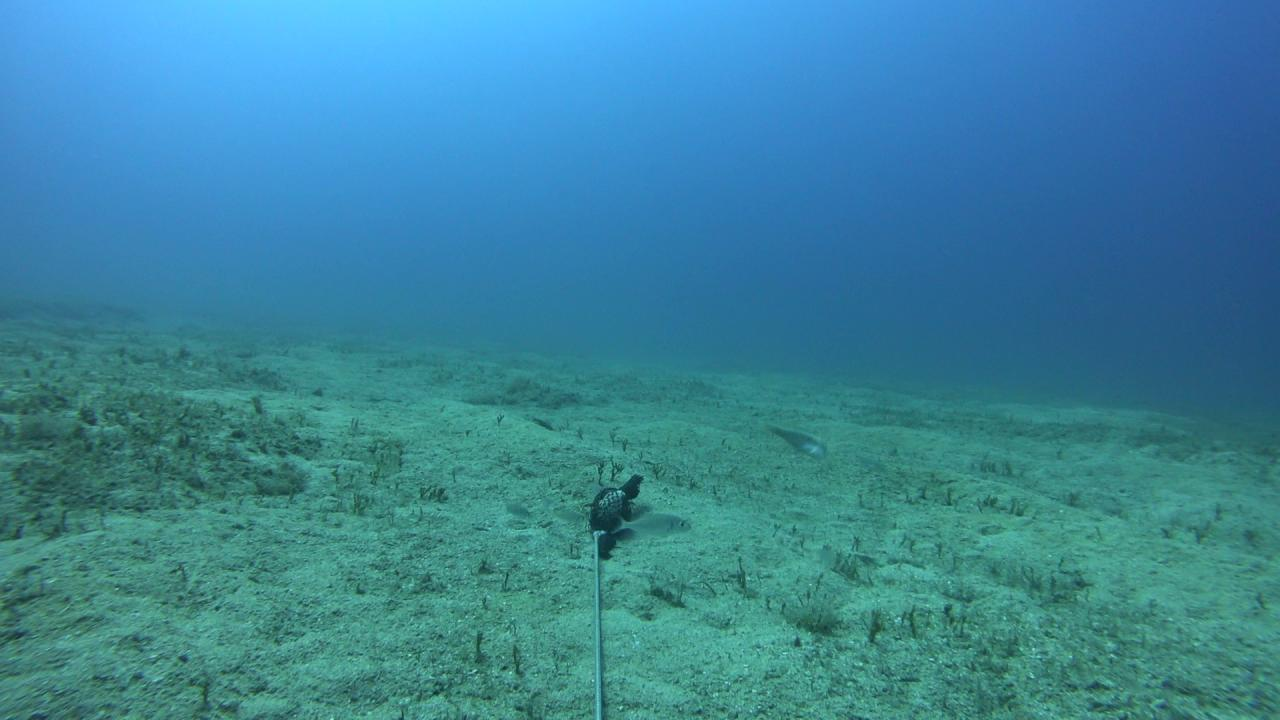pagellus: (609, 511, 692, 538), (505, 506, 536, 521), (554, 510, 587, 523)
raor: (759, 416, 832, 464)
